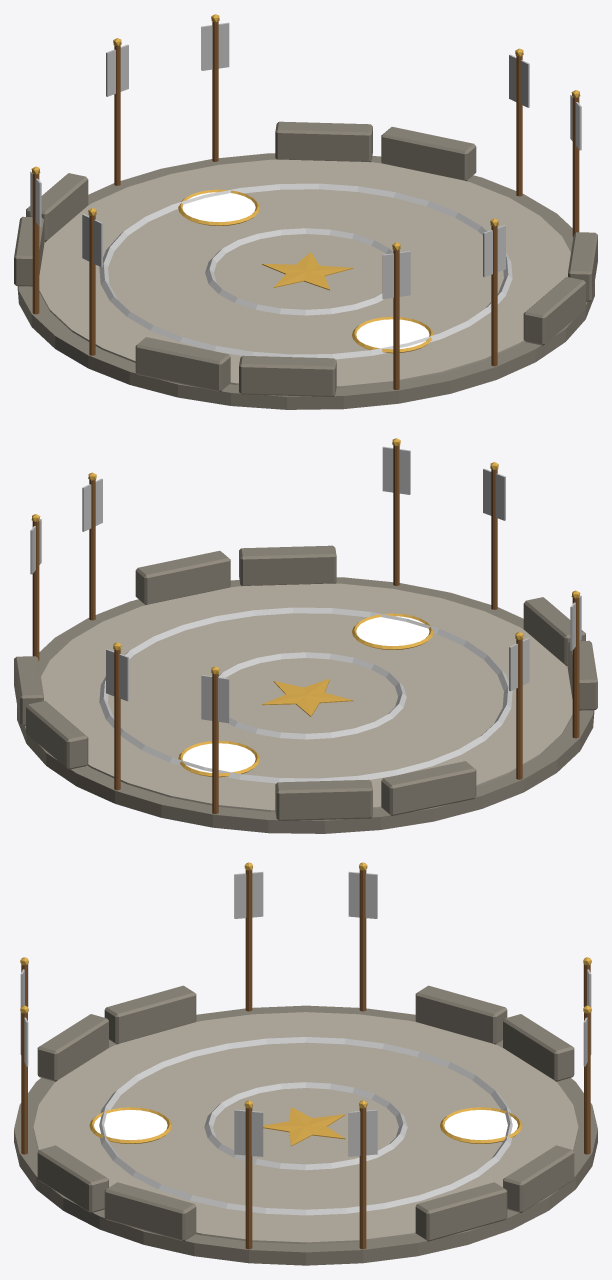
Rendered from ev_arena_v01.glb.
3 views of the same model, one above another, from view 1: azimuth 30°, elevation 25°; view 2: azimuth 150°, elevation 25°; view 3: azimuth 270°, elevation 25° (orthographic).
Parts seen in each view (by area): view 1: arena, pad_2, pad_1; view 2: arena, pad_1, pad_2; view 3: arena, pad_1, pad_2.
Part boxes in pixels (box(x1,y1,x2,y2)): arena: box(14, 14, 597, 409); pad_2: box(178, 189, 259, 225); pad_1: box(352, 316, 433, 353); arena: box(14, 438, 597, 833); pad_1: box(352, 613, 433, 649); pad_2: box(178, 740, 259, 777); arena: box(14, 862, 597, 1265); pad_1: box(89, 1107, 171, 1143); pad_2: box(440, 1107, 522, 1143).
Bounding box in the file's own units: 12 × 3.65 × 12.
